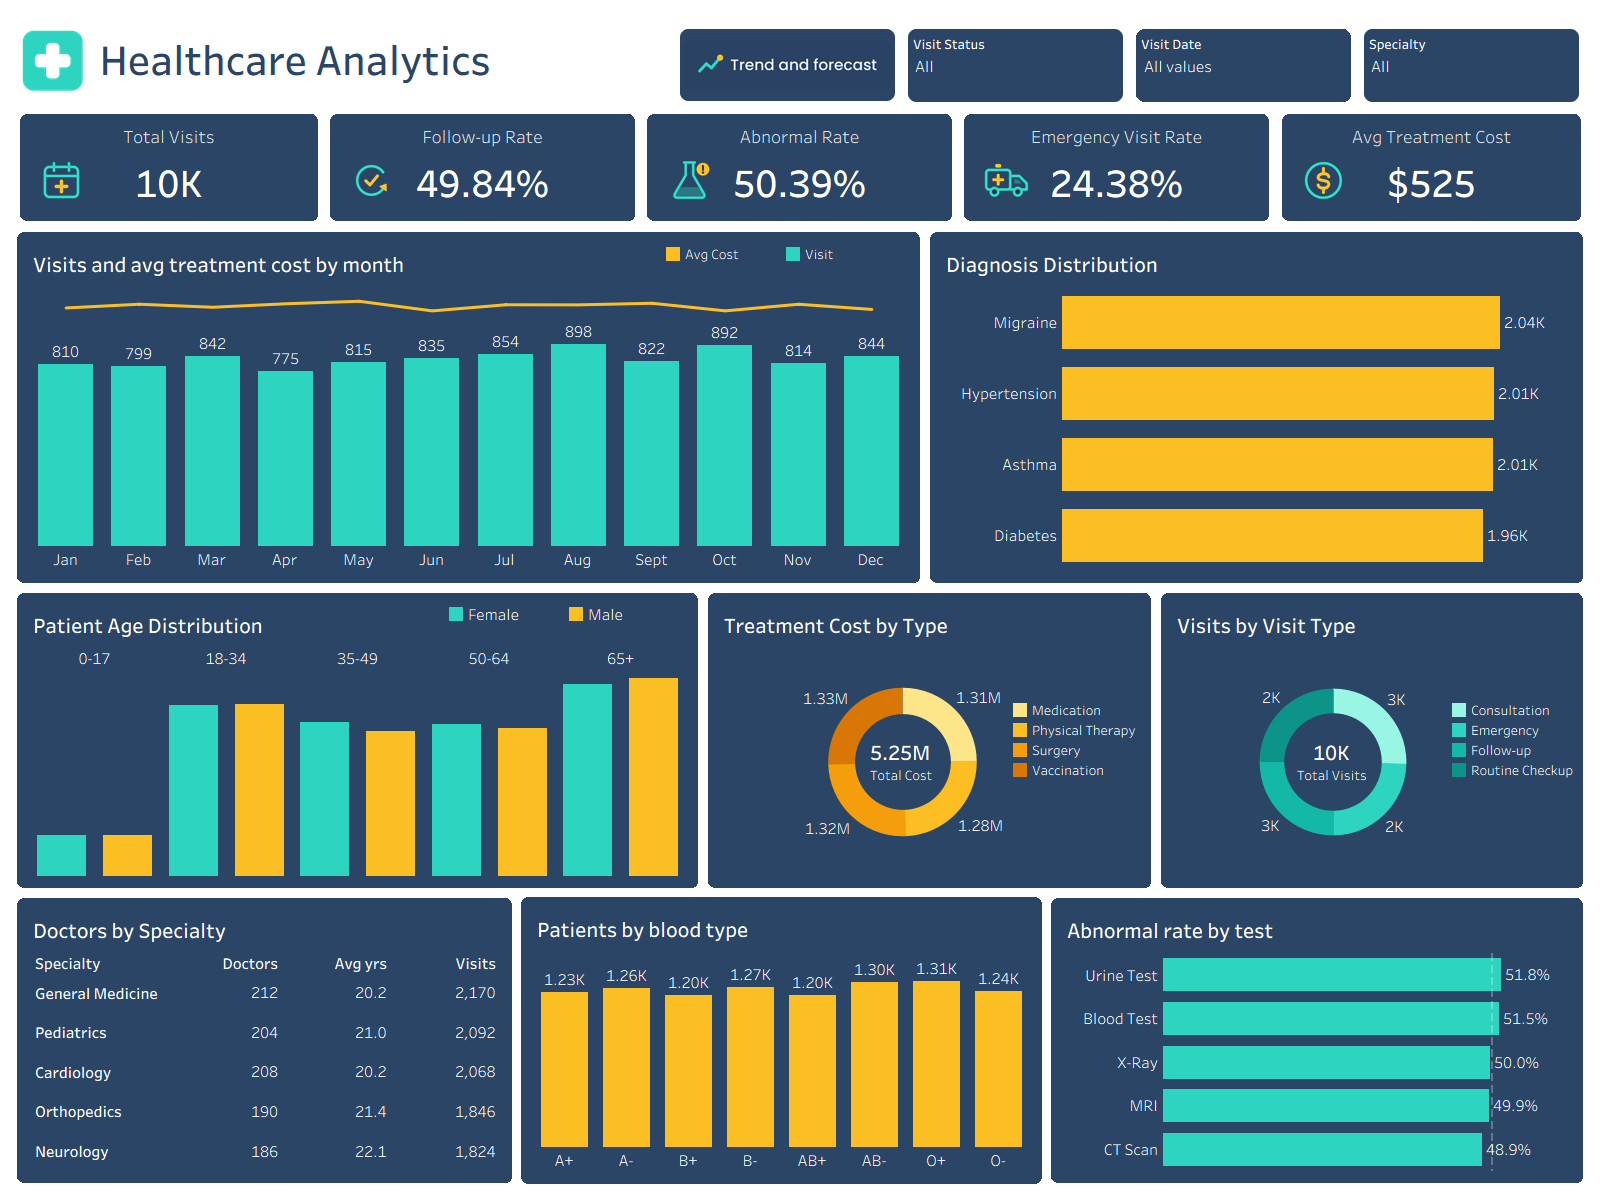

The page's visual inventory and layout, read from the dashboard file:
{"tool":"tableau","page":{"name":"Healthcare Analytics Dashboard","canvas":[1600,1200],"ordinal":0},"visuals":[{"type":"text","box":[12,12,1576,94.3]},{"type":"dashboard-object","box":[680,23,215,79]},{"type":"image","param":"Image/medical-logo.png","box":[11,25,83,71]},{"type":"filter","title":"Visits by Visit Type","param":"[federated.1ivszgt10utywr1dzhws30ymmkwt].[none:Visit Status:nk]","box":[908,29,215,73]},{"type":"filter","title":"Visits and avg treatment cost by month","param":"[federated.1ivszgt10utywr1dzhws30ymmkwt].[none:Visit Date Clean:qk]","box":[1136,29,215,73]},{"type":"filter","title":"Doctors by Specialty","param":"[federated.1ivszgt10utywr1dzhws30ymmkwt].[none:Specialty:nk]","box":[1364,29,215,73]},{"type":"worksheet","title":"Total Visits","mark":"Automatic","box":[19,113,300,109]},{"type":"worksheet","title":"Follow-up Rate","mark":"Automatic","box":[329,113,307,109]},{"type":"worksheet","title":"Abnormal Rate","mark":"Automatic","box":[646,113,307,109]},{"type":"worksheet","title":"Emergency Visit Rate","mark":"Automatic","box":[963,113,307,109]},{"type":"worksheet","title":"Avg Treatment Cost","mark":"Automatic","box":[1281,113,301,109]},{"type":"image","param":"Image/total_visits.png","box":[26,156,71,48]},{"type":"image","param":"Image/followup_rate.png","box":[336,156,71,48]},{"type":"image","param":"Image/abnormal_rate.png","box":[654,156,71,48]},{"type":"image","param":"Image/emergency_visit_rate.png","box":[971,156,71,48]},{"type":"image","param":"Image/avg_treatment_cost.png","box":[1288,156,71,48]},{"type":"worksheet","title":"Visits and avg treatment cost by month","mark":"Automatic","rows":["Visit ID","Treatment Cost"],"cols":["Visit Date Clean"],"box":[12,227.5,913,360.5]},{"type":"worksheet","title":"Diagnosis Distribution","mark":"Automatic","rows":["Diagnosis"],"cols":["Visit ID"],"box":[925,227.5,663,360.5]},{"type":"legend","title":"Visits and avg treatment cost by month","param":"[federated.1ivszgt10utywr1dzhws30ymmkwt].[:Measure Names]","box":[663,244,252,37]},{"type":"worksheet","title":"Patient Age Distribution","mark":"Automatic","rows":["Patient ID"],"cols":["Calculation_0636128060506113","Gender"],"box":[12,588,691,305]},{"type":"worksheet","title":"Treatment Cost by Type","mark":"Pie","cols":["Calculation_0636127695192064","Calculation_0636127695192064"],"box":[703,588,453,305]},{"type":"worksheet","title":"Visits by Visit Type","mark":"Pie","cols":["Calculation_0636127695192064","Calculation_0636127695192064"],"box":[1156,588,432,305]},{"type":"legend","title":"Patient Age Distribution","param":"[federated.1ivszgt10utywr1dzhws30ymmkwt].[none:Gender:nk]","box":[446,604,245,26]},{"type":"legend","title":"Treatment Cost by Type","param":"[federated.1ivszgt10utywr1dzhws30ymmkwt].[none:Treatment Type:nk]","box":[1010,700,139,97]},{"type":"legend","title":"Visits by Visit Type","param":"[federated.1ivszgt10utywr1dzhws30ymmkwt].[none:Visit Type:nk]","box":[1449,700,129,99]},{"type":"worksheet","title":"Doctors by Specialty","mark":"Automatic","rows":["Specialty"],"box":[12,893,505.4,295]},{"type":"worksheet","title":"Patients by blood type","mark":"Automatic","rows":["Patient ID"],"cols":["Blood Type"],"box":[517.4,893,528.3,295]},{"type":"worksheet","title":"Abnormal rate by test","mark":"Automatic","rows":["Test Name"],"cols":["Calculation_0636128099823618"],"box":[1045.7,893,542.3,295]}]}

Visuals, with their boxes in screenshot pixels (x1, y1, x2, y2), scaled from the page's 1600x1200 canvas onto the 1600x1200 screenshot:
text: select_region(12, 12, 1588, 106)
dashboard-object: select_region(680, 23, 895, 102)
image: select_region(11, 25, 94, 96)
"Visits by Visit Type" filter: select_region(908, 29, 1123, 102)
"Visits and avg treatment cost by month" filter: select_region(1136, 29, 1351, 102)
"Doctors by Specialty" filter: select_region(1364, 29, 1579, 102)
"Total Visits" worksheet: select_region(19, 113, 319, 222)
"Follow-up Rate" worksheet: select_region(329, 113, 636, 222)
"Abnormal Rate" worksheet: select_region(646, 113, 953, 222)
"Emergency Visit Rate" worksheet: select_region(963, 113, 1270, 222)
"Avg Treatment Cost" worksheet: select_region(1281, 113, 1582, 222)
image: select_region(26, 156, 97, 204)
image: select_region(336, 156, 407, 204)
image: select_region(654, 156, 725, 204)
image: select_region(971, 156, 1042, 204)
image: select_region(1288, 156, 1359, 204)
"Visits and avg treatment cost by month" worksheet: select_region(12, 228, 925, 588)
"Diagnosis Distribution" worksheet: select_region(925, 228, 1588, 588)
"Visits and avg treatment cost by month" legend: select_region(663, 244, 915, 281)
"Patient Age Distribution" worksheet: select_region(12, 588, 703, 893)
"Treatment Cost by Type" worksheet (Pie marks): select_region(703, 588, 1156, 893)
"Visits by Visit Type" worksheet (Pie marks): select_region(1156, 588, 1588, 893)
"Patient Age Distribution" legend: select_region(446, 604, 691, 630)
"Treatment Cost by Type" legend: select_region(1010, 700, 1149, 797)
"Visits by Visit Type" legend: select_region(1449, 700, 1578, 799)
"Doctors by Specialty" worksheet: select_region(12, 893, 517, 1188)
"Patients by blood type" worksheet: select_region(517, 893, 1046, 1188)
"Abnormal rate by test" worksheet: select_region(1046, 893, 1588, 1188)
